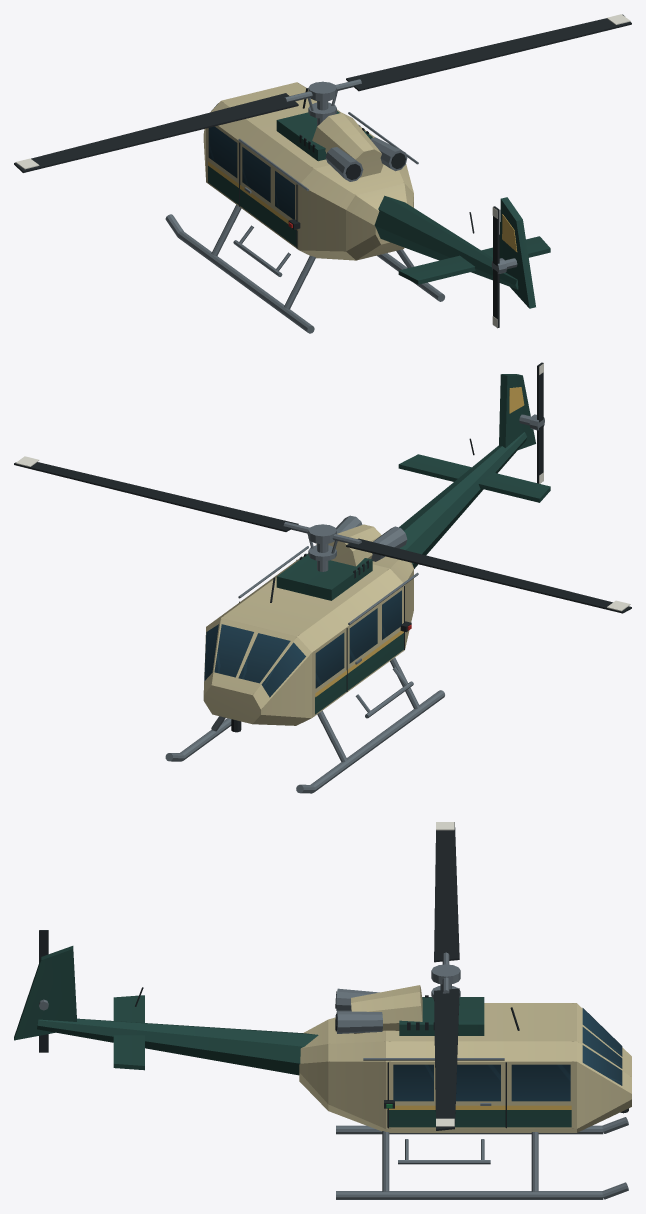
File: helicopter.glb
3 renders of one model, top to bottom at view 1: azimuth 30°, elevation 25°; view 2: azimuth 150°, elevation 25°; view 3: azimuth 270°, elevation 25°, orthographic. The views are drawn at different scales.
Parts seen in each view (by area): view 1: Body, MainRotor, TailRotor; view 2: Body, MainRotor, TailRotor; view 3: Body, MainRotor.
Part boxes in pixels (bbox=[...]): Body: bbox=[165, 82, 550, 333]; MainRotor: bbox=[14, 14, 631, 172]; TailRotor: bbox=[491, 206, 506, 328]; Body: bbox=[165, 374, 550, 793]; MainRotor: bbox=[14, 456, 631, 613]; TailRotor: bbox=[529, 362, 544, 483]; Body: bbox=[14, 946, 631, 1199]; MainRotor: bbox=[431, 822, 460, 1130].
Size of the model in its own units: 13.8 by 4.74 by 11.8.
1 material, 1 textured.
